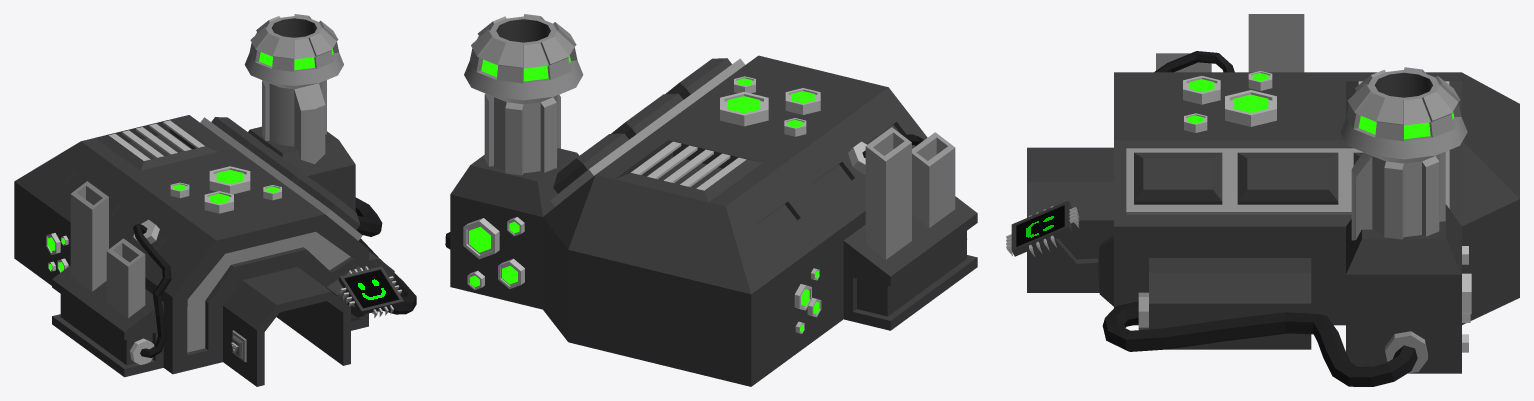
The model's file is Factory.fbx.
The picture shows the model from 3 angles, left to right: view 1: azimuth 30°, elevation 25°; view 2: azimuth 150°, elevation 25°; view 3: azimuth 270°, elevation 25°; orthographic projection. The views are drawn at different scales.
Parts seen in each view (by area): view 1: Factory; view 2: Factory; view 3: Factory.
Part boxes in pixels (<box>): Factory: <box>14,14,416,386</box>; Factory: <box>445,14,977,386</box>; Factory: <box>1006,14,1519,386</box>.
Size of the model in its own units: 17.55 by 10.14 by 17.73.
